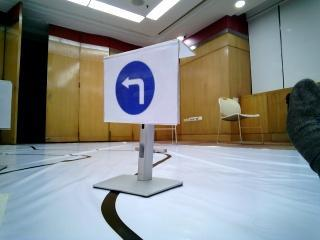left: (100, 59, 174, 123)
